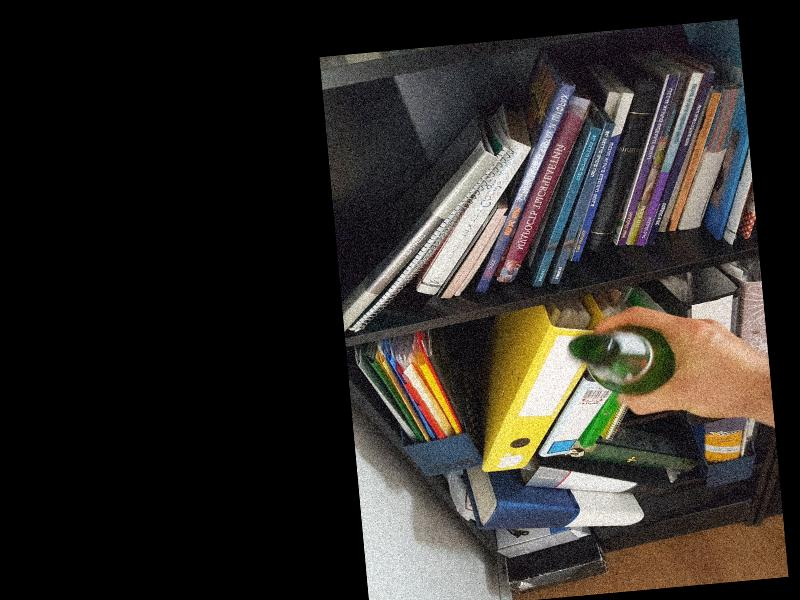Beer: (567, 322, 678, 400)
